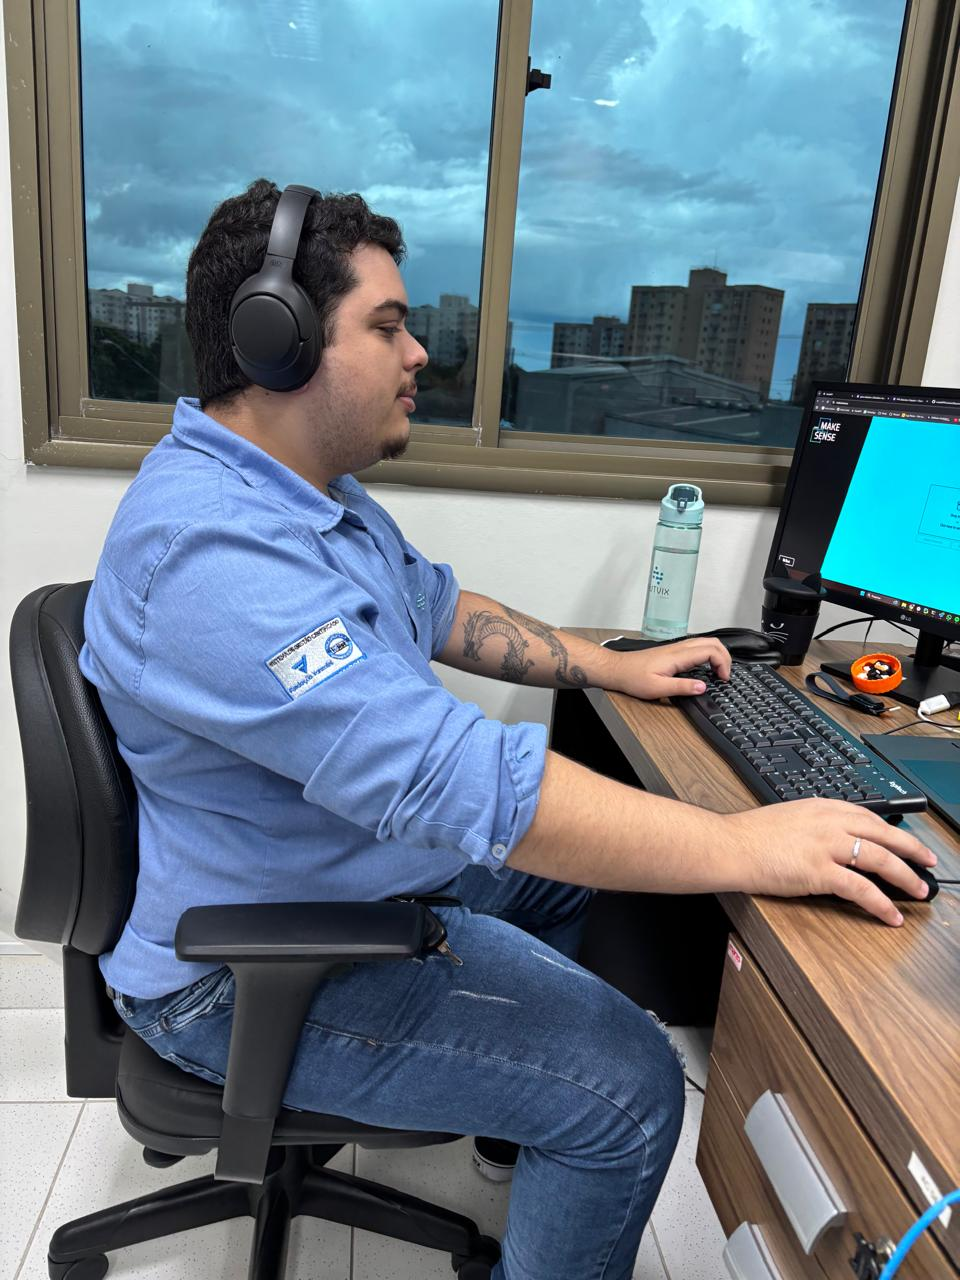no-gloves: (719, 778, 941, 932), (607, 627, 733, 699)
